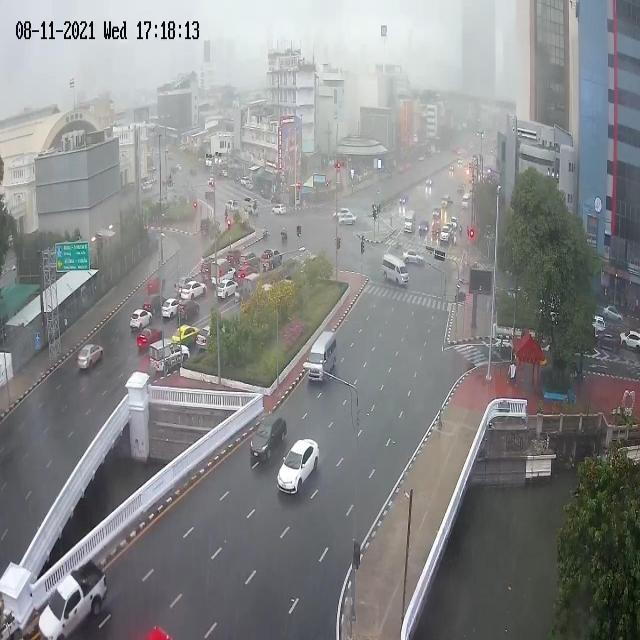Car: (277, 439, 320, 495), (251, 416, 286, 462), (77, 344, 104, 371), (172, 324, 200, 348), (143, 294, 167, 317), (176, 299, 200, 321), (130, 308, 152, 329), (136, 328, 163, 345), (181, 282, 206, 300), (619, 330, 640, 351), (262, 249, 282, 271), (162, 297, 181, 319), (402, 248, 425, 266), (196, 325, 212, 350), (602, 304, 624, 322), (217, 280, 239, 298), (175, 276, 195, 294), (237, 253, 261, 267), (226, 250, 241, 267), (339, 212, 357, 226), (333, 207, 351, 221), (234, 266, 252, 280), (200, 218, 213, 237), (271, 202, 286, 216), (244, 203, 260, 216), (419, 220, 429, 237), (441, 195, 452, 209), (399, 192, 409, 205), (432, 206, 442, 218), (432, 223, 441, 236), (450, 216, 459, 228), (240, 176, 250, 185), (245, 182, 254, 190)
Cycle: (281, 229, 288, 241), (263, 230, 268, 242), (460, 226, 462, 235)
Truck: (37, 559, 107, 640), (149, 338, 190, 374), (210, 258, 238, 288), (243, 273, 260, 295), (404, 210, 415, 234)
Van: (306, 331, 337, 382), (382, 253, 410, 285), (461, 192, 470, 208)
